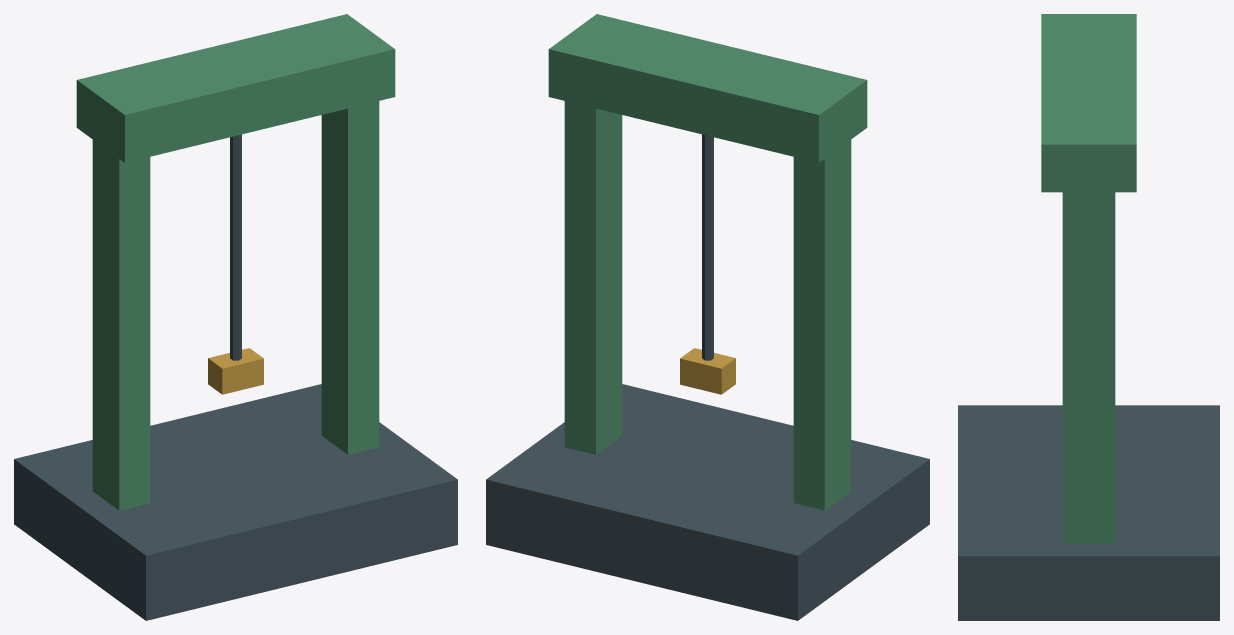
File: chain_hoist.glb
3 renders of one model, left to right at view 1: azimuth 30°, elevation 25°; view 2: azimuth 150°, elevation 25°; view 3: azimuth 270°, elevation 25°, orthographic.
Parts seen in each view (by area): view 1: chain_hoist; view 2: chain_hoist; view 3: chain_hoist.
Boxes of the visible parts, x1,y1,x2,y2 form: chain_hoist: (14, 14, 457, 620); chain_hoist: (486, 14, 929, 620); chain_hoist: (958, 14, 1219, 620).
Bounding box in the file's own units: 1.5 × 2.16 × 1.1.
